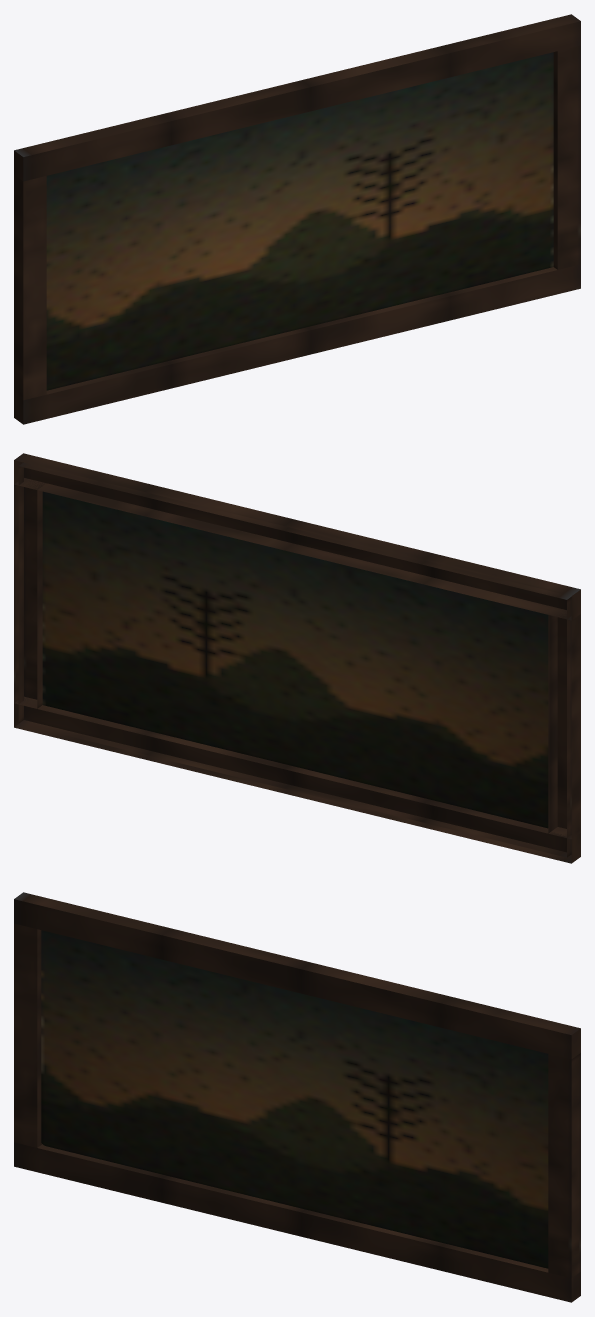
File: Atmos_Painting_Wide_Dark.fbx
3 renders of one model, top to bottom at view 1: azimuth 30°, elevation 25°; view 2: azimuth 150°, elevation 25°; view 3: azimuth 330°, elevation 25°, orthographic.
Parts seen in each view (by area): view 1: Atmos_Painting_Wide_Dark; view 2: Atmos_Painting_Wide_Dark; view 3: Atmos_Painting_Wide_Dark.
Part boxes in pixels (box(x1,y1,x2,y2)): Atmos_Painting_Wide_Dark: box(14, 14, 580, 424); Atmos_Painting_Wide_Dark: box(14, 453, 580, 863); Atmos_Painting_Wide_Dark: box(14, 892, 580, 1302).
Size of the model in its own units: 120 by 55 by 3.5.
1 material, 1 textured.
